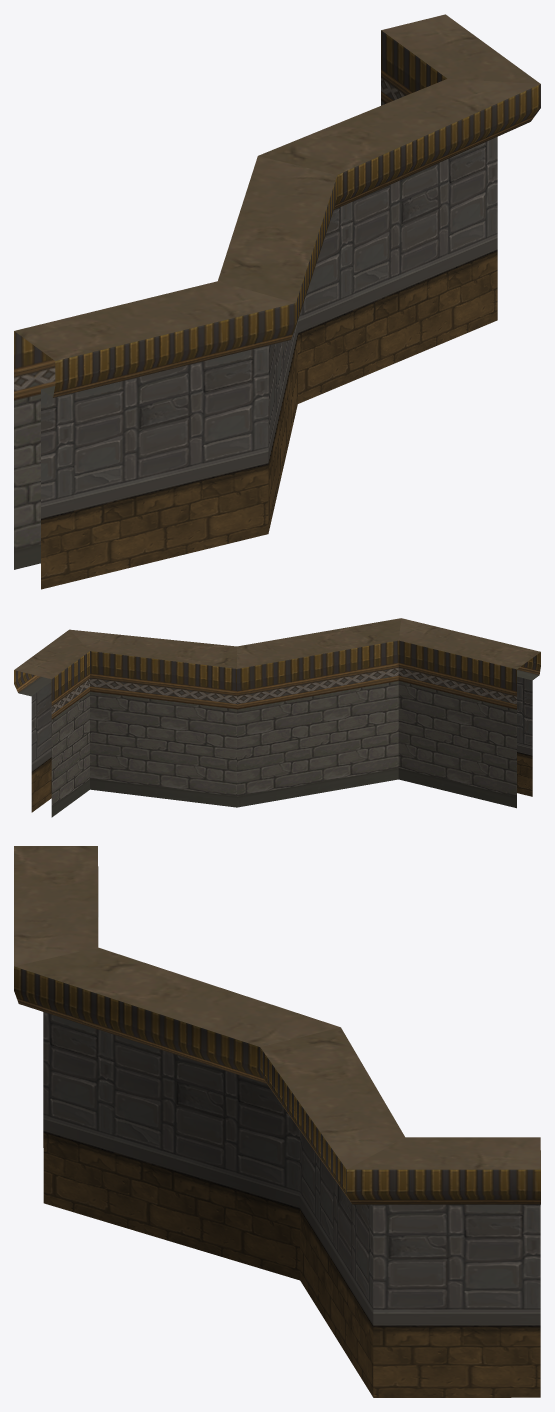
The model's file is Battle06_Wall_021.FBX.
3 views of the same model, one above another, from view 1: azimuth 30°, elevation 25°; view 2: azimuth 150°, elevation 25°; view 3: azimuth 270°, elevation 25° (orthographic). The views are drawn at different scales.
Parts seen in each view (by area): view 1: Battle06_Wall_021; view 2: Battle06_Wall_021; view 3: Battle06_Wall_021.
Part boxes in pixels (bbox=[...]): Battle06_Wall_021: bbox=[14, 14, 540, 589]; Battle06_Wall_021: bbox=[14, 618, 540, 817]; Battle06_Wall_021: bbox=[14, 846, 540, 1397].
Bounding box in the file's own units: 27.35 × 9.63 × 18.87.
